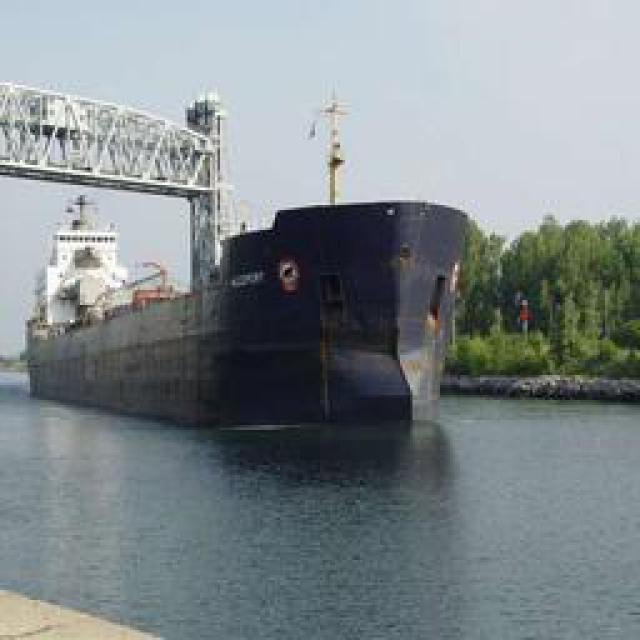Ship: (19, 115, 489, 440)
